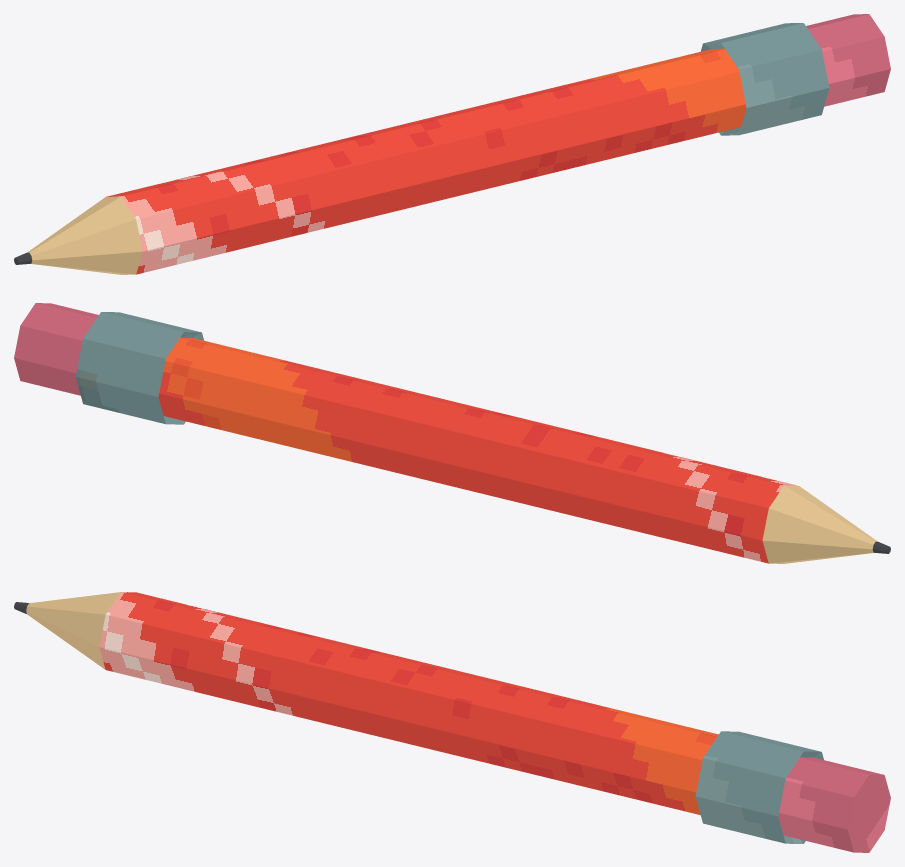
Rendered from pencilLong.glb.
3 renders of one model, top to bottom at view 1: azimuth 30°, elevation 25°; view 2: azimuth 150°, elevation 25°; view 3: azimuth 330°, elevation 25°, orthographic.
Parts seen in each view (by area): view 1: pencilLong; view 2: pencilLong; view 3: pencilLong.
Boxes of the visible parts, box(x1,y1,x2,y2) form: pencilLong: box(14, 14, 890, 274); pencilLong: box(14, 303, 890, 563); pencilLong: box(14, 592, 890, 852).
Bounding box in the file's own units: 0.2035 × 0.0211 × 0.0211.
5 materials, 5 textured.
